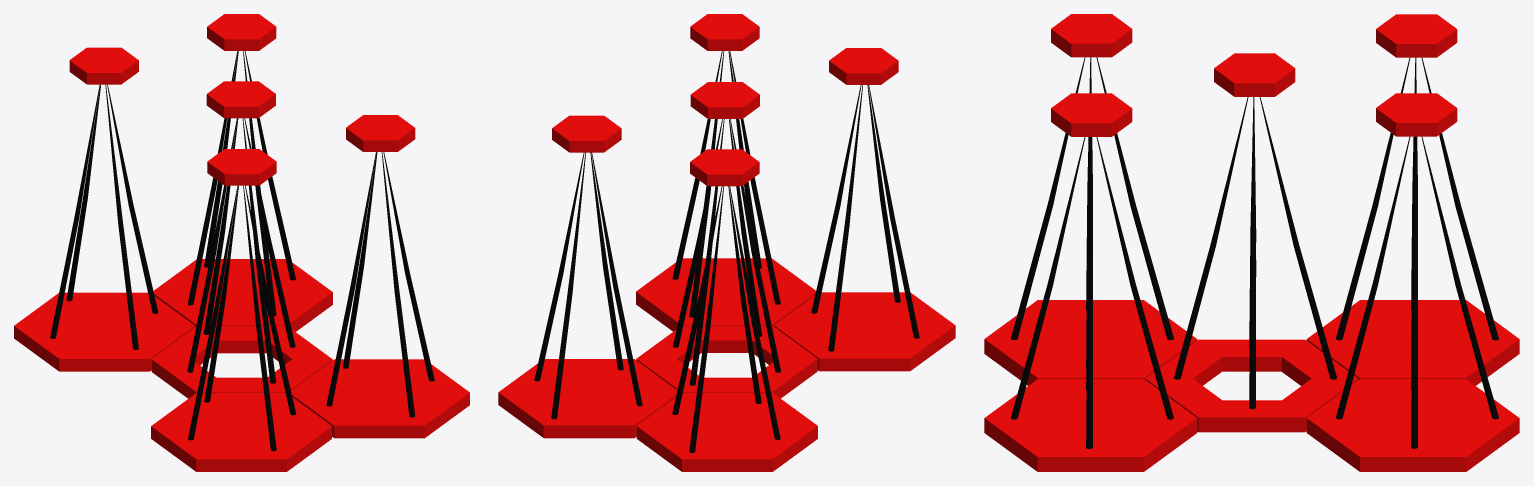
The model's file is HangingFuturelamp - Textured.fbx.
3 views of the same model, side by side, from view 1: azimuth 30°, elevation 25°; view 2: azimuth 150°, elevation 25°; view 3: azimuth 270°, elevation 25° (orthographic). The views are drawn at different scales.
Parts seen in each view (by area): view 1: Cylinder.006; view 2: Cylinder.006; view 3: Cylinder.006.
Boxes of the visible parts, bbox=[...] form: Cylinder.006: bbox=[14, 14, 469, 471]; Cylinder.006: bbox=[498, 14, 955, 471]; Cylinder.006: bbox=[984, 14, 1519, 471].
Bounding box in the file's own units: 238 × 165 × 160.
